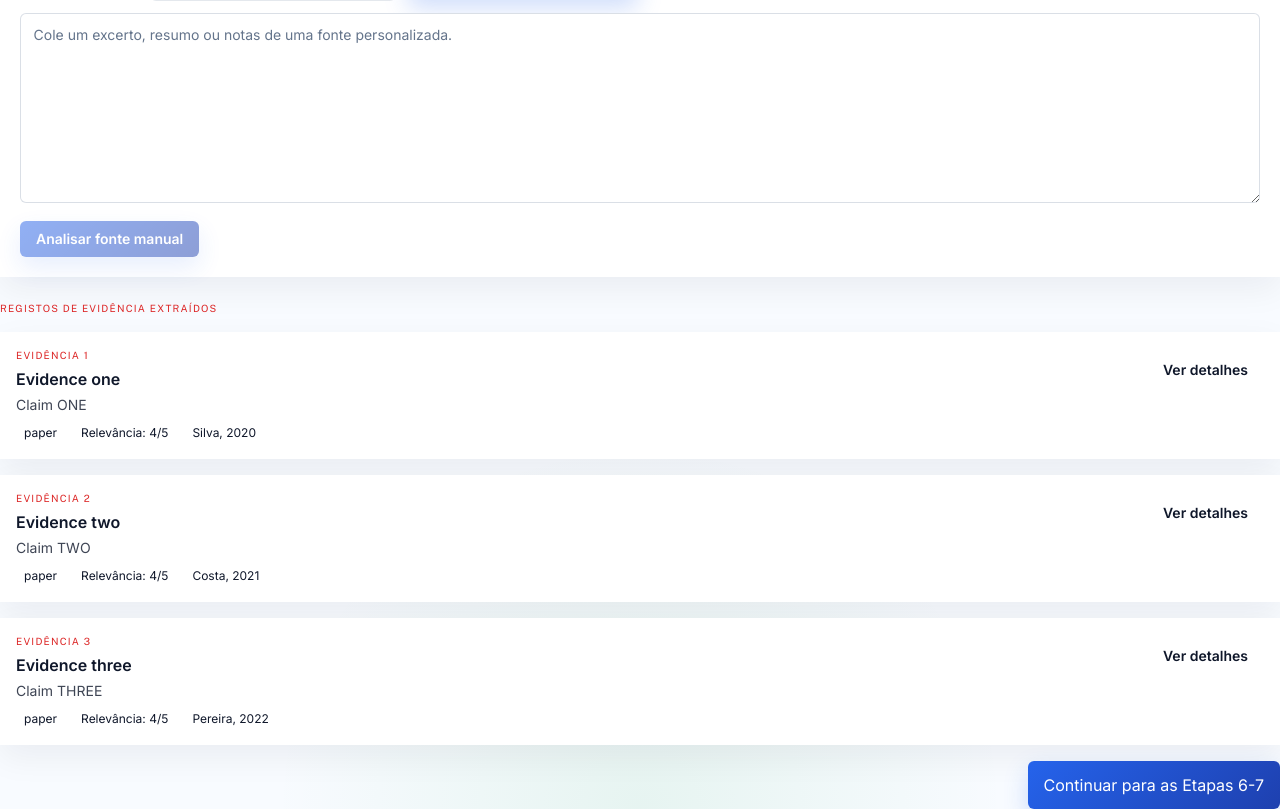
Step 3 - evidence records open in a drawer › moves between records with Previous/Next and disables them at the ends
This screenshot has width=1280, height=809.
(page scrolled)
What coordinates should you click on to do the following:
click the button with aria-label "Ver detalhes: Evidence one"
I would click on:
 (1206, 370)
Its box is [1147,348,1264,392].
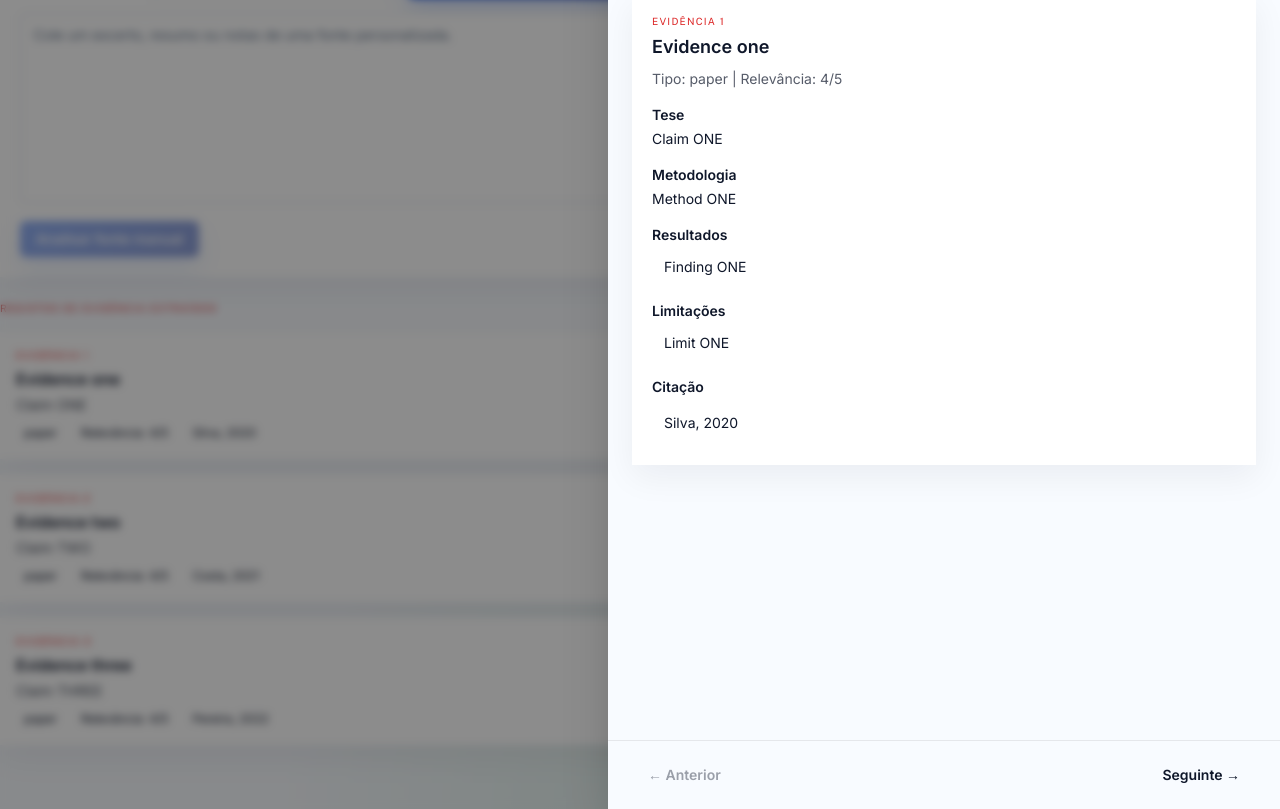
Check: the button "← Anterior" is disabled, box [632,753,737,797]
What coordinates should you click on to do the following:
click the button "Seguinte →"
I would click on:
 (1201, 775)
Its box is [1146,753,1256,797].
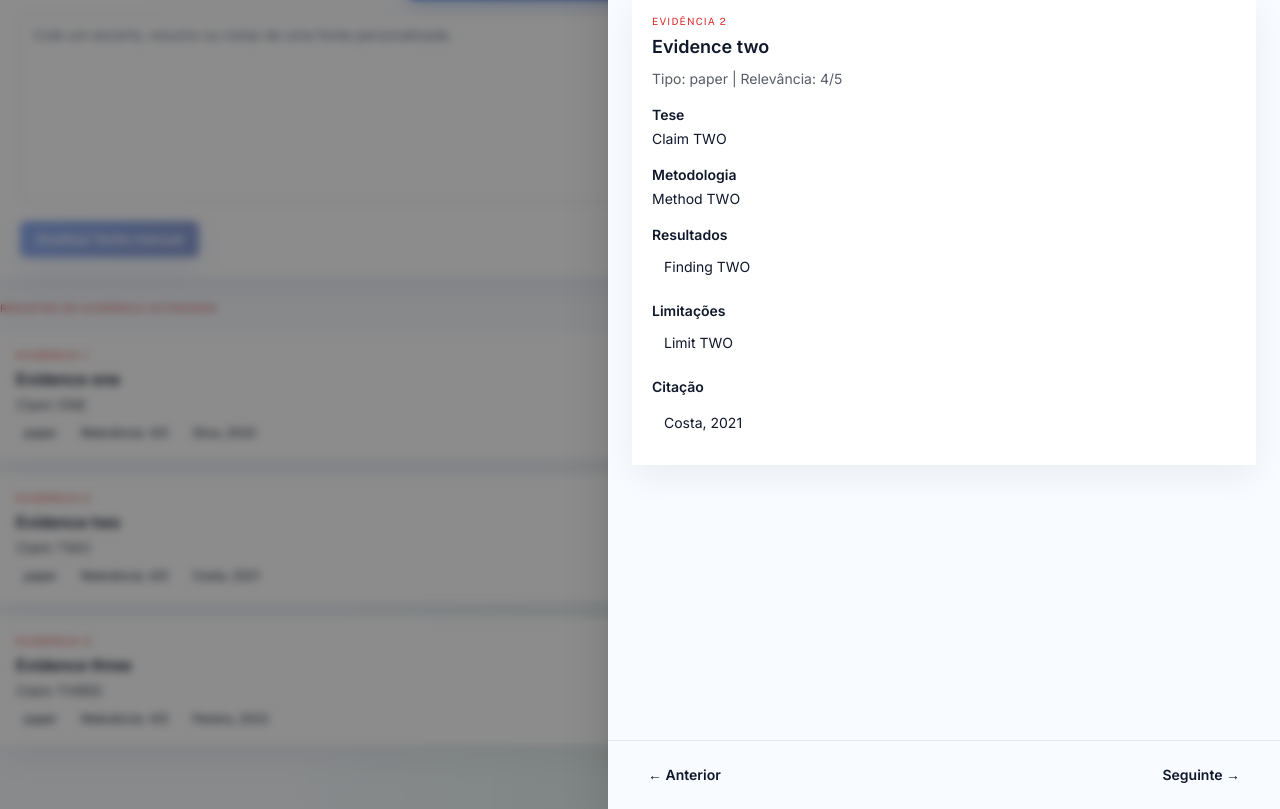
Check: the text "Method TWO" is shown, box [652,190,740,207]
What coordinates should you click on to do the following:
click the button "Seguinte →"
I would click on:
 (1201, 775)
Its box is [1146,753,1256,797].
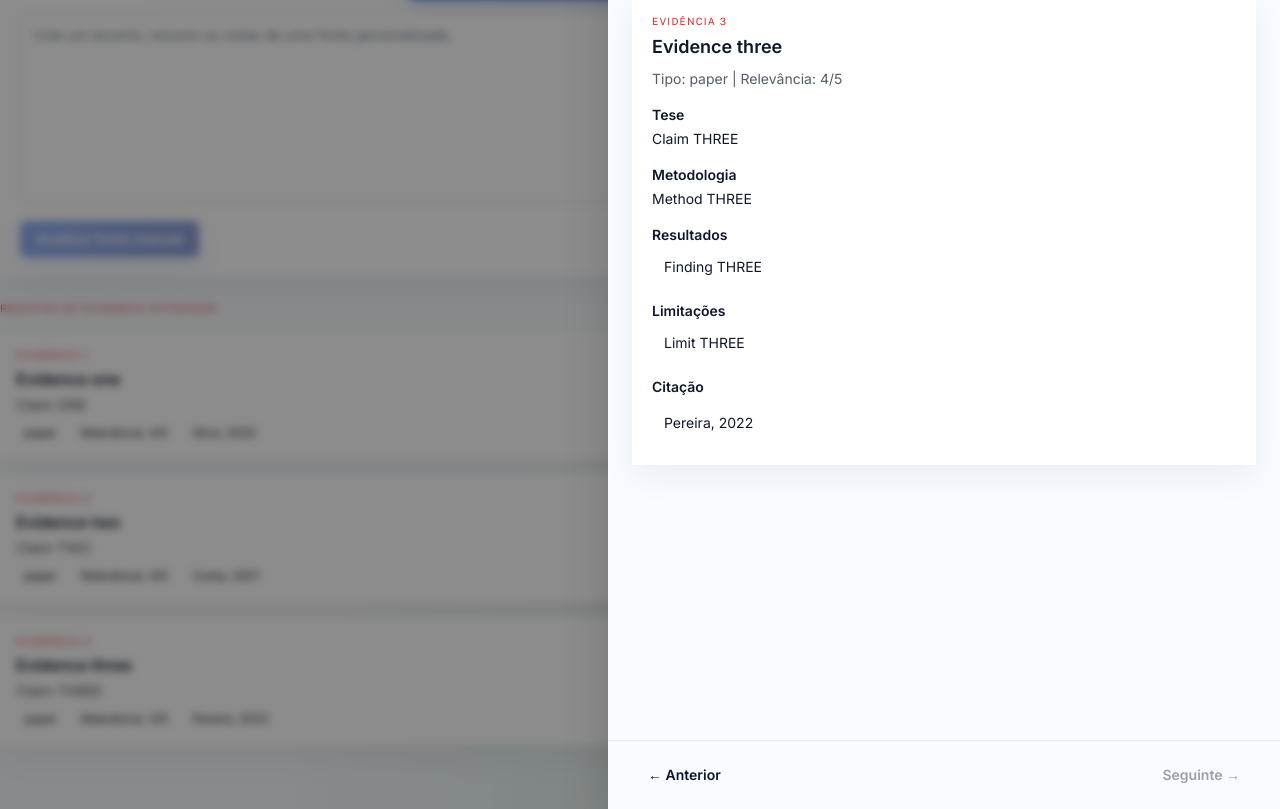
Check: the text "Method THREE" is shown, box [652,190,752,207]
Check: the button "Seguinte →" is disabled, box [1146,753,1256,797]
What coordinates should you click on to do the following:
click the button "← Anterior"
I would click on:
 (684, 775)
Its box is [632,753,737,797].
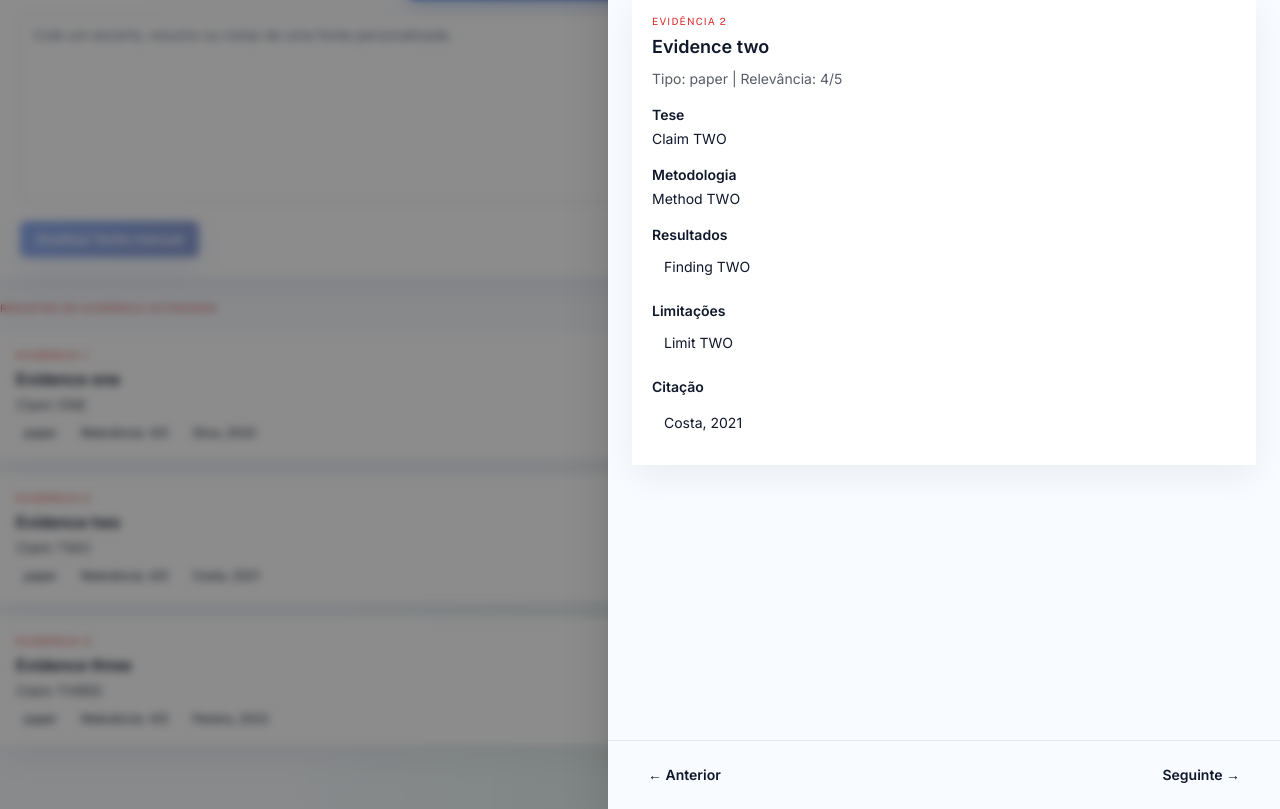
Check: the text "Method TWO" is shown, box [652,190,740,207]
